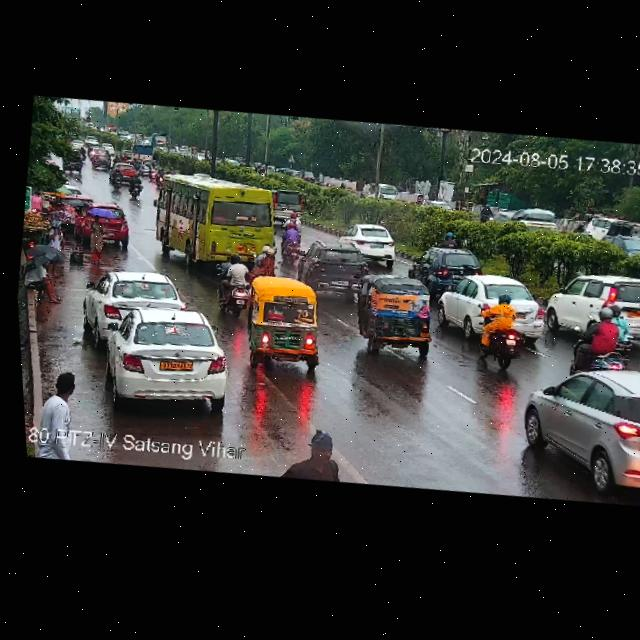bus: (147, 161, 293, 277), (120, 152, 128, 163)
car: (509, 350, 640, 489), (94, 296, 236, 413), (236, 266, 336, 376), (429, 264, 553, 344), (347, 268, 443, 363), (537, 262, 640, 350), (78, 263, 187, 341), (300, 235, 369, 294), (337, 219, 404, 266), (412, 241, 481, 283), (82, 199, 136, 251), (269, 187, 310, 224), (604, 214, 640, 243), (61, 150, 84, 174), (90, 152, 111, 171), (119, 160, 140, 177), (102, 142, 116, 154)
motorcycle: (467, 291, 529, 371), (569, 298, 632, 374), (210, 246, 262, 321), (278, 212, 307, 266), (255, 243, 277, 271), (124, 174, 146, 199), (109, 169, 130, 191), (148, 160, 159, 183), (114, 154, 121, 165)
person: (38, 362, 92, 438), (290, 421, 352, 485), (20, 254, 71, 306), (43, 221, 67, 277), (84, 213, 109, 263), (52, 201, 68, 214)
truck: (129, 140, 155, 161)
